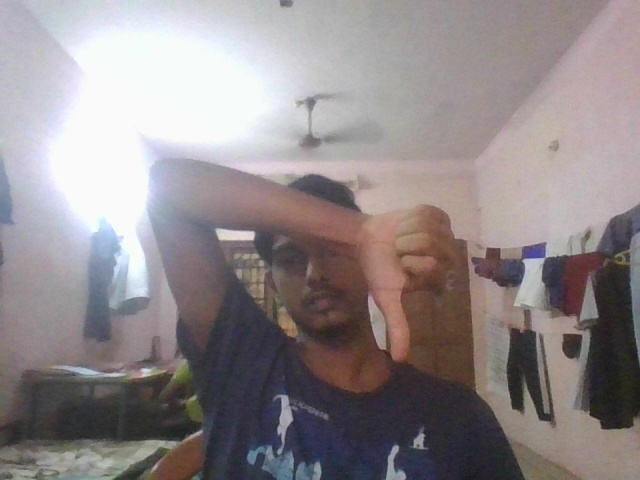thumbsdown: (357, 201, 463, 365)
